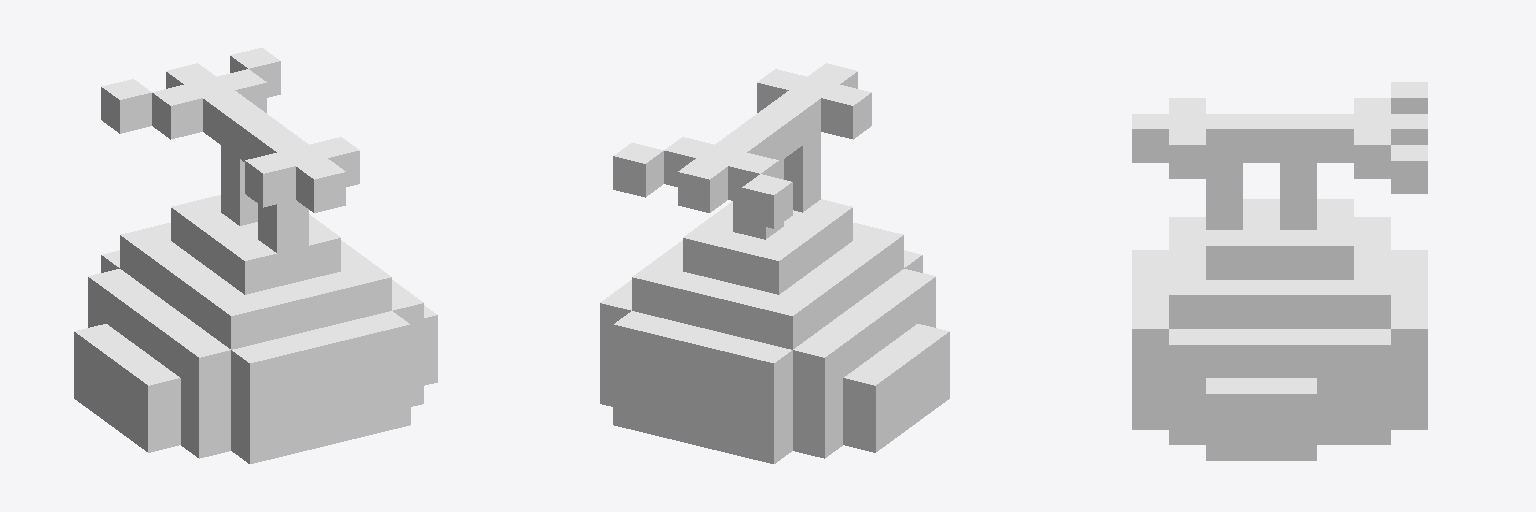
The model's file is arrow_tower.obj.
The picture shows the model from 3 angles: view 1: azimuth 30°, elevation 25°; view 2: azimuth 150°, elevation 25°; view 3: azimuth 270°, elevation 25°; orthographic projection.
Parts seen in each view (by area): view 1: object 1; view 2: object 1; view 3: object 1.
Boxes of the visible parts, <box> form: object 1: <box>74,48,437,463</box>; object 1: <box>600,63,949,463</box>; object 1: <box>1132,82,1427,460</box>.
Bounding box in the file's own units: 0.9 × 0.8 × 0.8.